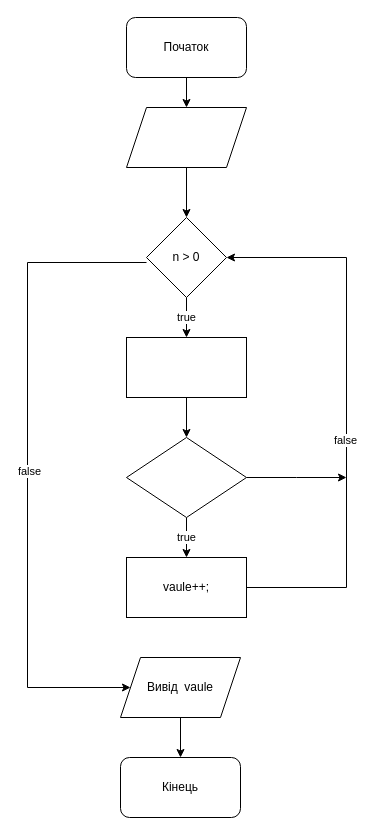
Image size: 374x835. Some labels were removed from this diagram. Here are the shapes that lost their labels. From the top down, the centre of each, then its label:
At [186,137]: "Введення n".
At [186,367]: "x = n % 10; n = (n - x) / 10;".
At [186,477]: "x != 1 && x != 9".
